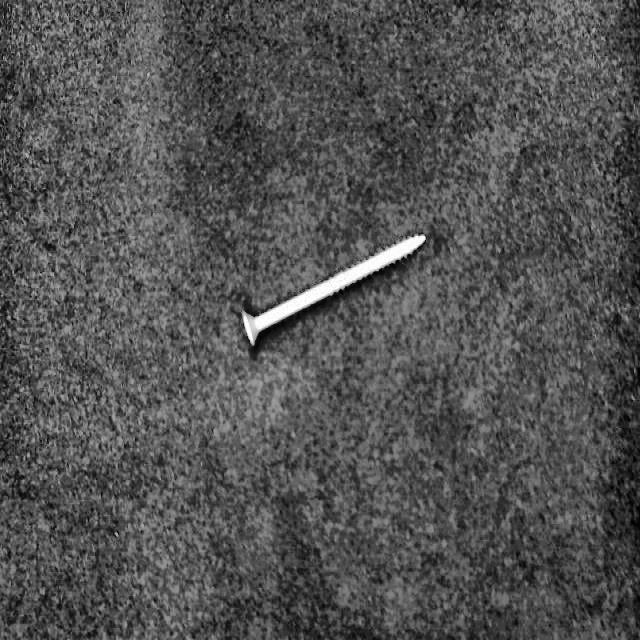Wood screw: (241, 230, 426, 346)
